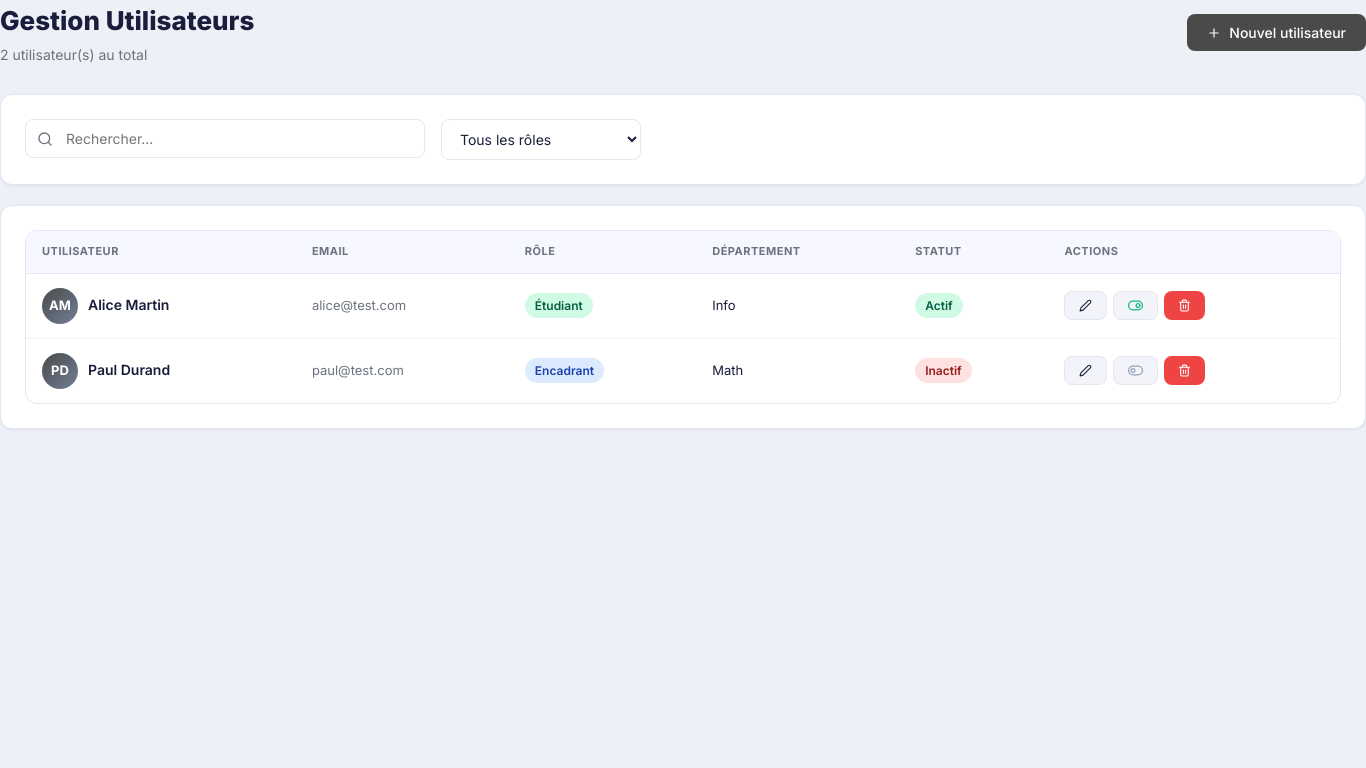
Test: UsersManagementPage › ouvre la modale de modification au clic sur Modifier
The width and height of the screenshot is (1366, 768).
Expected: the text "Alice Martin" is shown, [88, 294, 169, 317]
Click the button named "Modifier" in the row of "AM" at (1086, 306), box [1064, 291, 1108, 320]
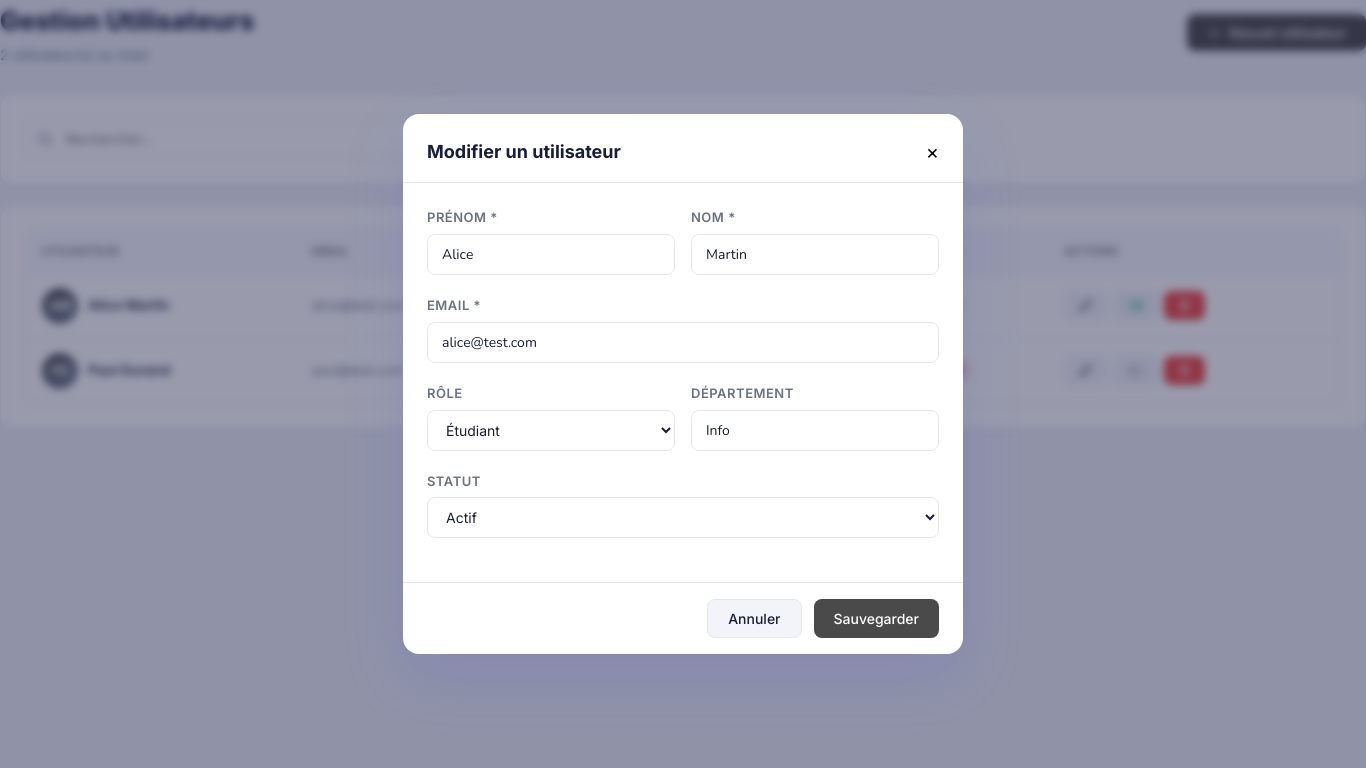
Result: the heading "Modifier un utilisateur" is shown at [427, 138, 621, 166]
